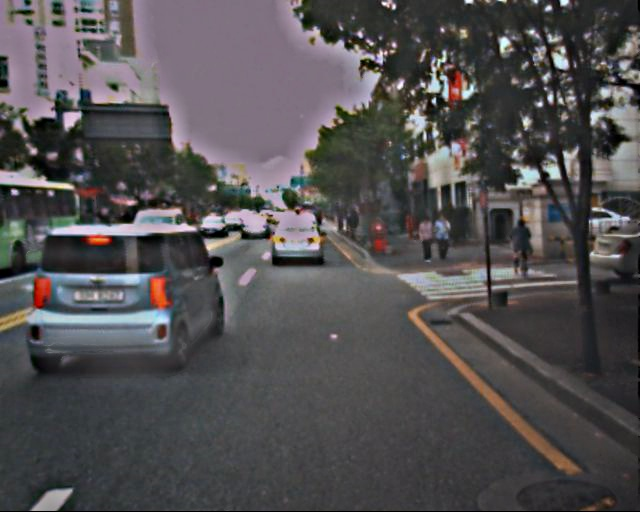person: (511, 219, 533, 272), (432, 214, 453, 265), (417, 217, 436, 263)
